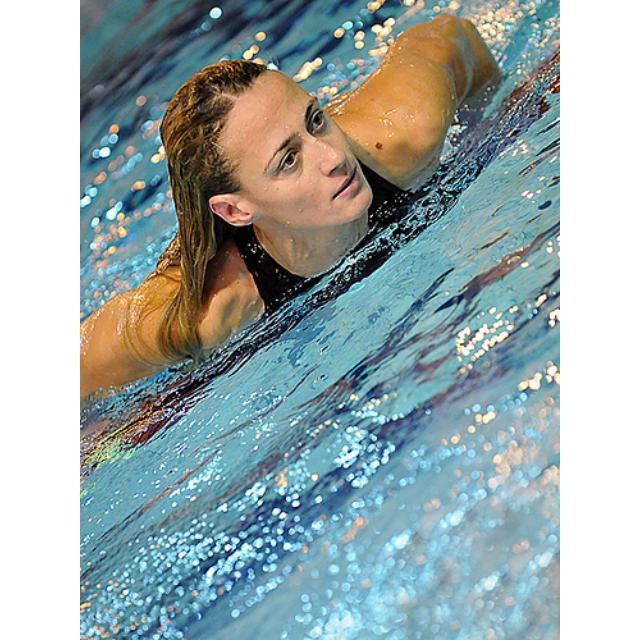human: (81, 24, 507, 399)
